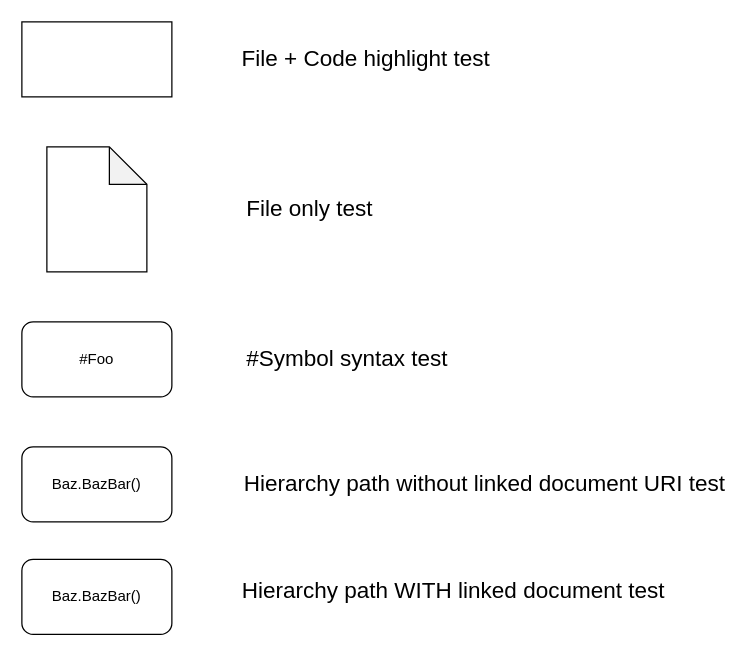
Some shapes in this 756 by 656 pixel diagram are drawn without their labels. The centre of each missing label's shape, as x and y in pixels:
PDF: [96,209]
README.md: [96,59]
